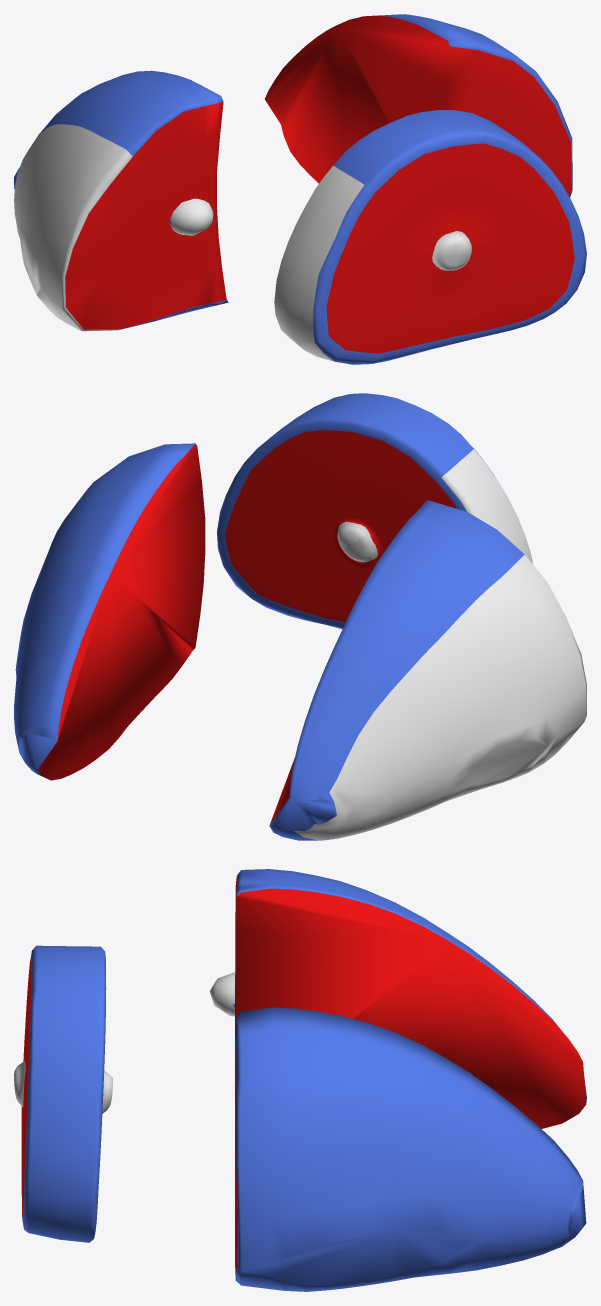
The model's file is bonito factory fillet.fbx.
3 renders of one model, top to bottom at view 1: azimuth 30°, elevation 25°; view 2: azimuth 150°, elevation 25°; view 3: azimuth 270°, elevation 25°, orthographic. The views are drawn at different scales.
Visible parts, largest first — view 1: fillet1, fillet3, fillet2; view 2: fillet3, fillet2, fillet1; view 3: fillet2, fillet3, fillet1.
Part boxes in pixels (x1,y1,x2,y2): fillet1: (274,110,586,364); fillet3: (14,70,228,331); fillet2: (265,14,572,197); fillet3: (269,500,586,840); fillet2: (14,443,205,780); fillet1: (217,393,532,629); fillet2: (235,1007,586,1291); fillet3: (209,869,586,1128); fillet1: (14,945,112,1242).
Bounding box in the file's own units: 636 × 274 × 574.
